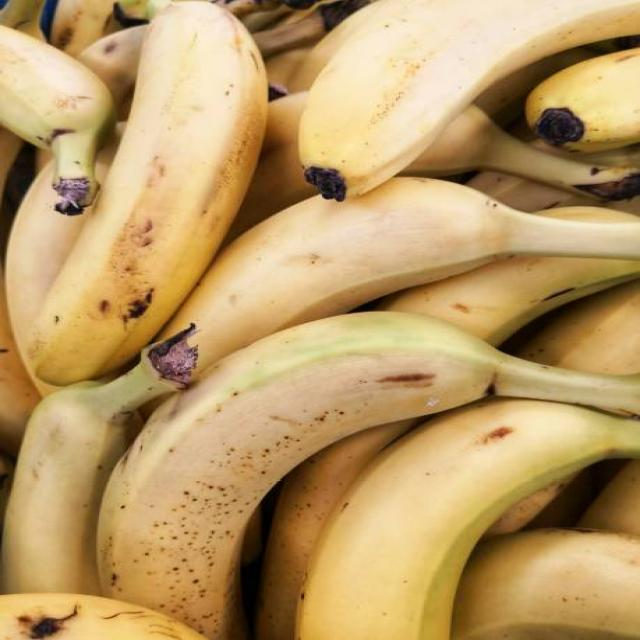banana: (328, 379, 636, 640), (310, 1, 637, 196), (102, 0, 270, 357), (248, 184, 640, 308), (117, 325, 640, 417), (334, 0, 640, 102), (28, 370, 129, 604), (0, 20, 103, 206), (528, 46, 640, 198)
